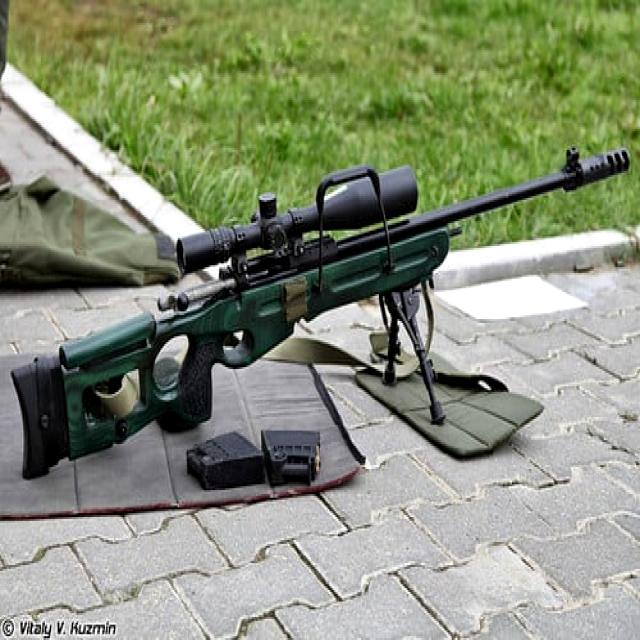rifle: (6, 136, 637, 487)
